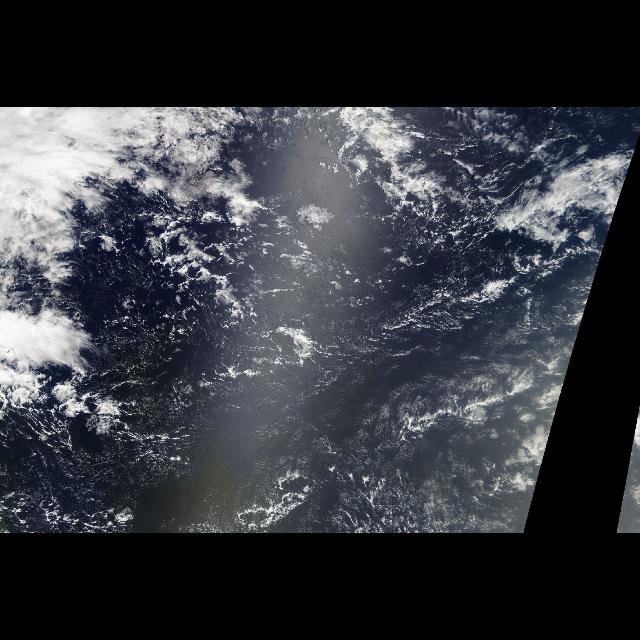Fish: (369, 246, 595, 350)
Gravel: (136, 208, 330, 372), (12, 384, 136, 530)
Sugar: (128, 400, 486, 530)
